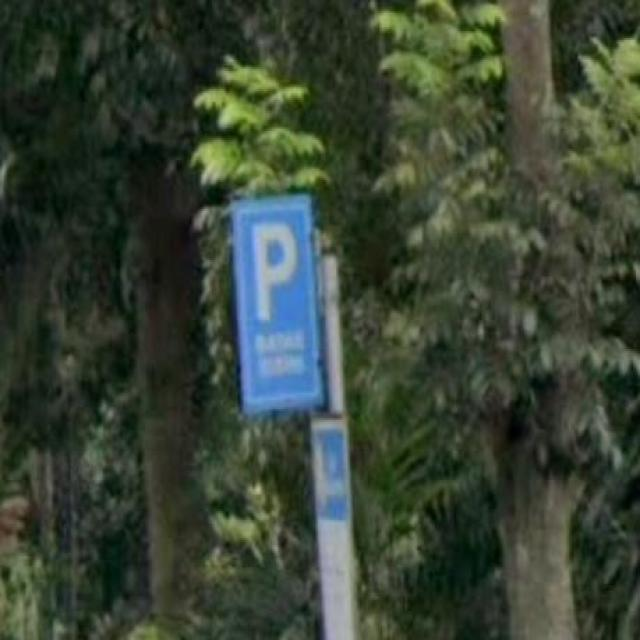traffic sign: (226, 193, 324, 406)
